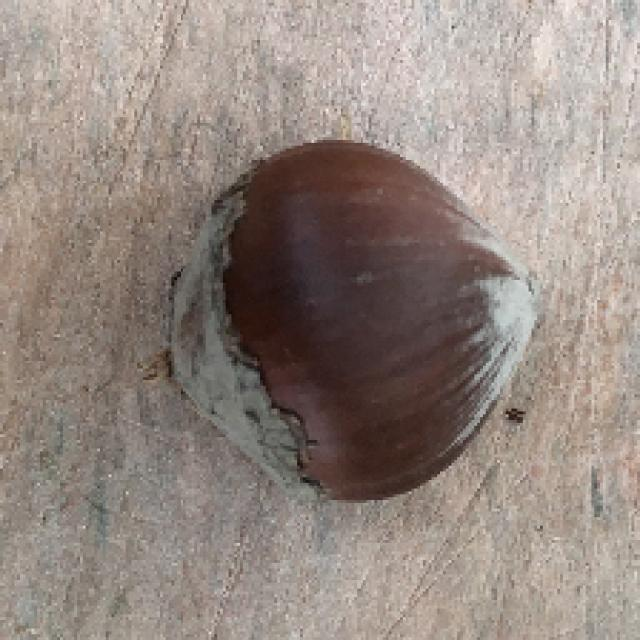damagedHazelnut: (172, 137, 542, 513)
